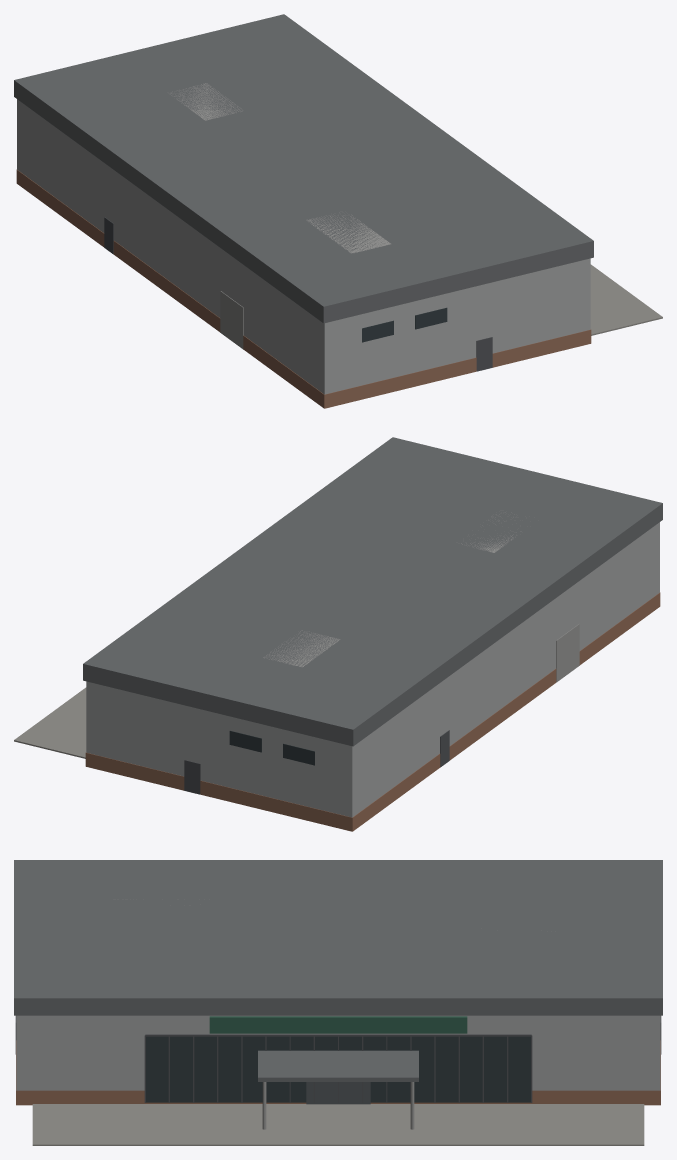
File: SM_Prop_services_hall_0.glb
The picture shows the model from 3 angles, top to bottom: view 1: azimuth 30°, elevation 25°; view 2: azimuth 150°, elevation 25°; view 3: azimuth 270°, elevation 25°; orthographic projection. The views are drawn at different scales.
Parts seen in each view (by area): view 1: SM_Prop_services_hall_0; view 2: SM_Prop_services_hall_0; view 3: SM_Prop_services_hall_0.
Boxes of the visible parts, bbox=[...] form: SM_Prop_services_hall_0: bbox=[14, 14, 662, 408]; SM_Prop_services_hall_0: bbox=[14, 437, 662, 831]; SM_Prop_services_hall_0: bbox=[14, 860, 662, 1145].
Size of the model in its own units: 26.15 by 7.4 by 40.3.
